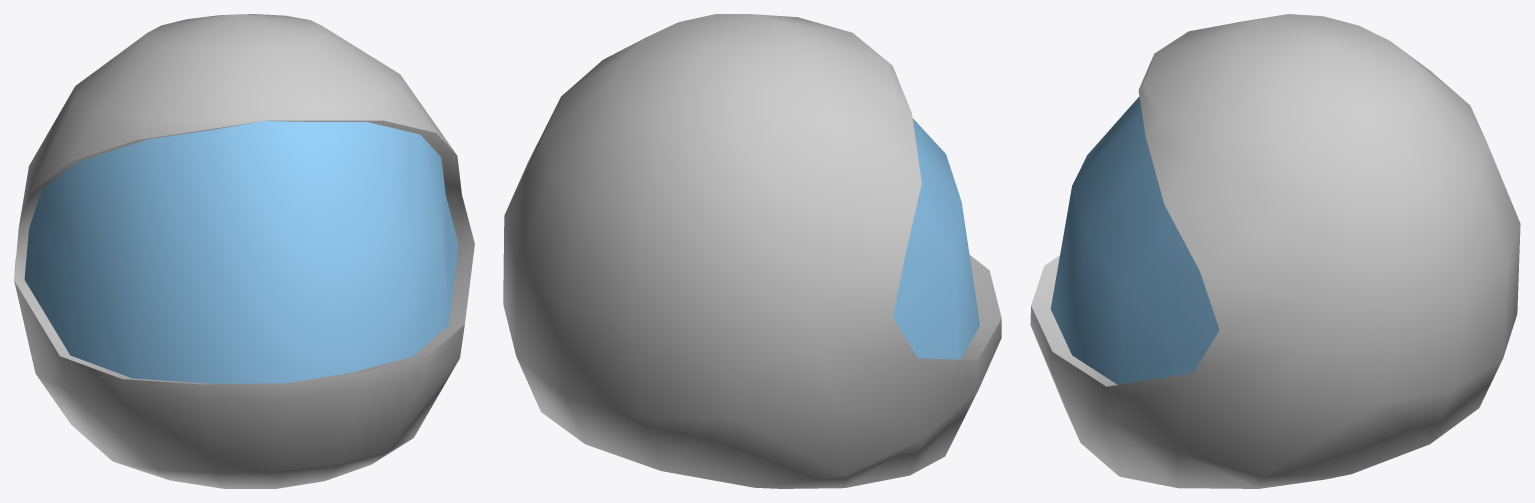
File: Casco.fbx
The picture shows the model from 3 angles, left to right: view 1: azimuth 30°, elevation 25°; view 2: azimuth 150°, elevation 25°; view 3: azimuth 270°, elevation 25°; orthographic projection. The views are drawn at different scales.
Visible parts, largest first — view 1: Casco; view 2: Casco; view 3: Casco.
Part boxes in pixels (x1,y1,x2,y2): Casco: (14,14,474,488); Casco: (503,14,1001,488); Casco: (1030,14,1520,488).
Size of the model in its own units: 46.79 by 42.7 by 47.2.
